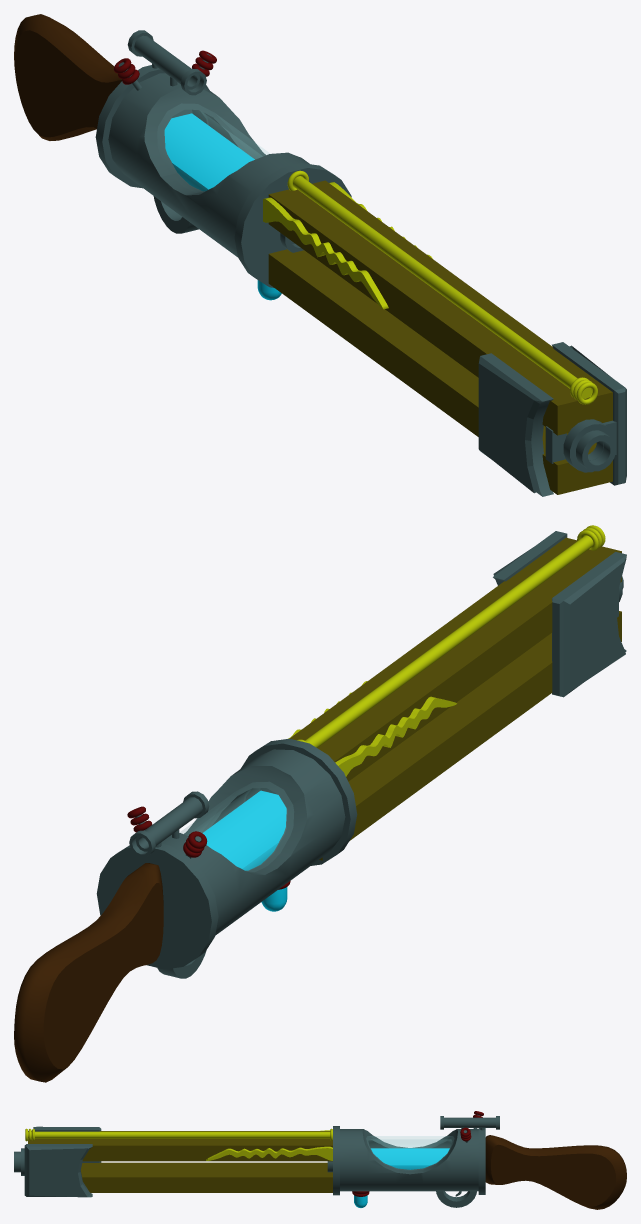
The model's file is armita.FBX.
3 views of the same model, one above another, from view 1: azimuth 30°, elevation 25°; view 2: azimuth 150°, elevation 25°; view 3: azimuth 270°, elevation 25° (orthographic). The views are drawn at different scales.
Parts seen in each view (by area): view 1: Box001, Box002, Tube001, Loft001, Box004, Tube002, Cylinder008, Cylinder003, Cylinder001, Box003, Loft003, Cylinder002 (+4 smaller); view 2: Loft001, Box001, Tube001, Box002, Box004, Cylinder002, Tube002, Cylinder008, Cylinder003, Cylinder001, Loft003, Tube004 (+1 smaller); view 3: Box002, Loft001, Tube001, Box001, Box003, Cylinder008, Tube002, Cylinder003, Loft004, Tube004, Cylinder002, Cylinder001 (+2 smaller).
Part boxes in pixels (x1,y1,x2,y2): Box001: (268,180,612,435); Box002: (268,249,612,494); Tube001: (108,73,309,257); Loft001: (14,14,122,140); Box004: (478,353,553,496); Tube002: (164,110,269,191); Cylinder008: (293,176,591,398); Cylinder003: (164,113,254,191); Cylinder001: (234,163,351,287); Box003: (552,342,626,485); Loft003: (263,197,388,309); Cylinder002: (95,65,209,188); Loft001: (14,863,163,1082); Box001: (290,537,621,781); Tube001: (161,749,345,935); Box002: (319,611,621,860); Box004: (552,552,626,697); Cylinder002: (96,843,218,969); Tube002: (180,788,286,870); Cylinder008: (305,535,593,747); Cylinder003: (202,790,286,870); Cylinder001: (241,738,357,865); Loft003: (335,696,456,776); Tube004: (135,797,202,851); Box002: (81,1162,332,1192); Loft001: (485,1135,626,1209); Tube001: (340,1129,478,1191); Box001: (28,1131,332,1161); Box003: (24,1144,92,1197); Cylinder008: (28,1131,330,1138); Tube002: (368,1136,451,1164); Cylinder003: (371,1148,449,1169); Loft004: (206,1146,332,1160); Tube004: (444,1117,495,1127); Cylinder002: (478,1128,485,1194); Cylinder001: (333,1126,339,1195).
Size of the model in its own units: 20.16 by 29.36 by 177.
